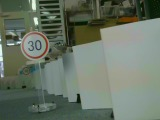speed_30: (19, 31, 49, 60)
